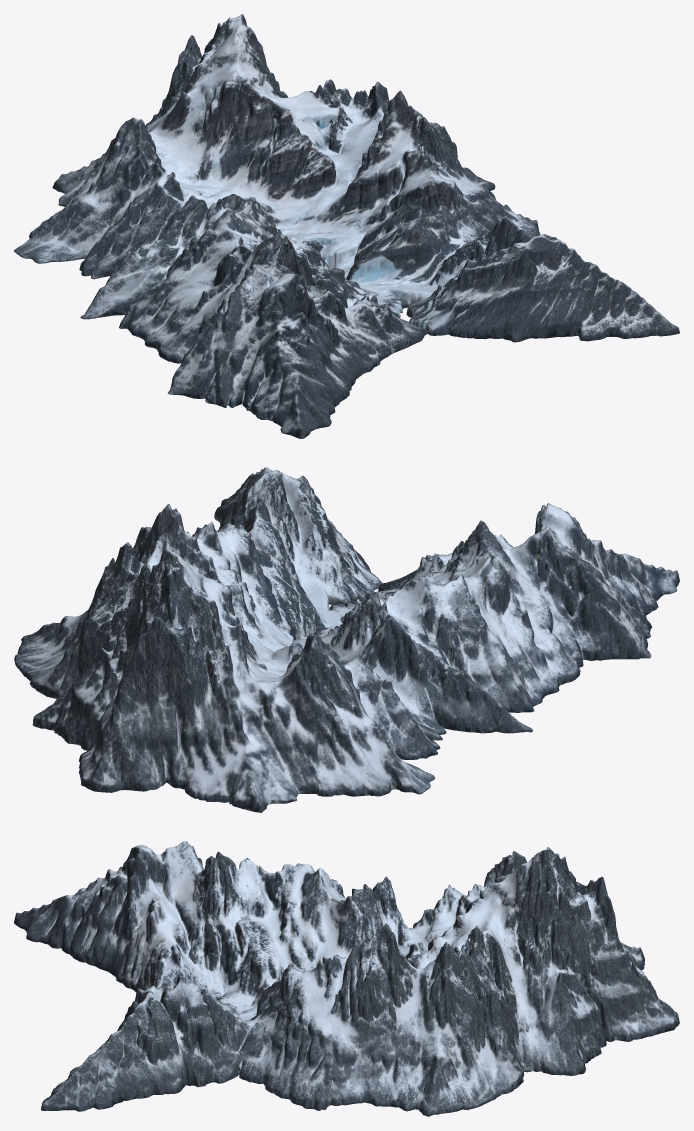
File: mountain-massif.glb
3 views of the same model, one above another, from view 1: azimuth 30°, elevation 25°; view 2: azimuth 150°, elevation 25°; view 3: azimuth 270°, elevation 25° (orthographic). The views are drawn at different scales.
Bounding box in the file's own units: 1.48 × 0.5482 × 1.9.
1 material, 1 textured.
